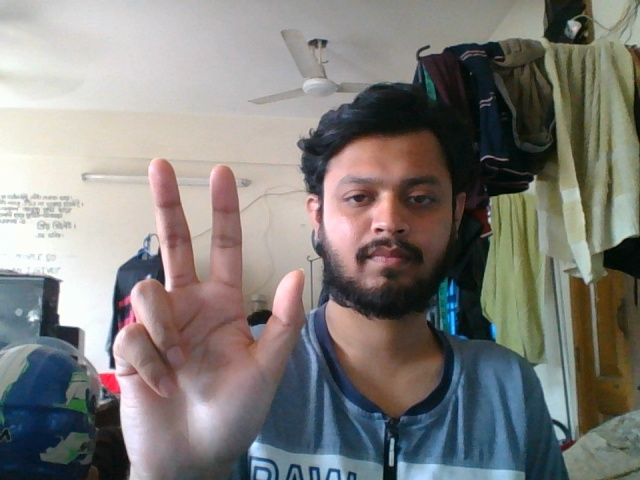da: (83, 150, 311, 480)
